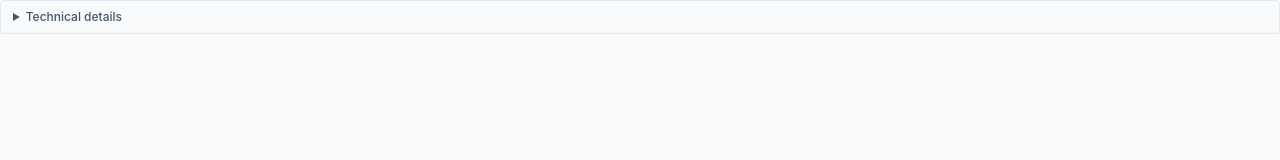
Test: TechDetails › expands on click and exposes the content
Click the heading "Technical details".
click(74, 16)  # box x1=26 y1=9 x2=122 y2=24
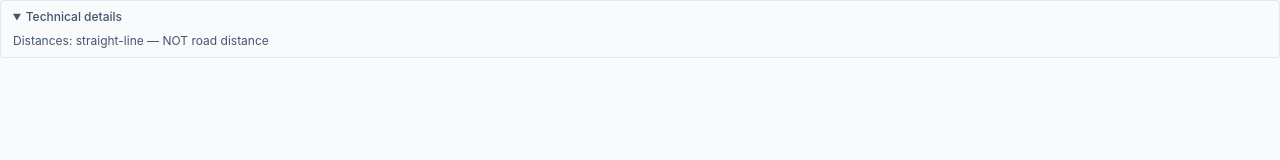
Expected: the element with test id "comparison-tech-details" shows "NOT road distance", x1=13 y1=33 x2=269 y2=48
